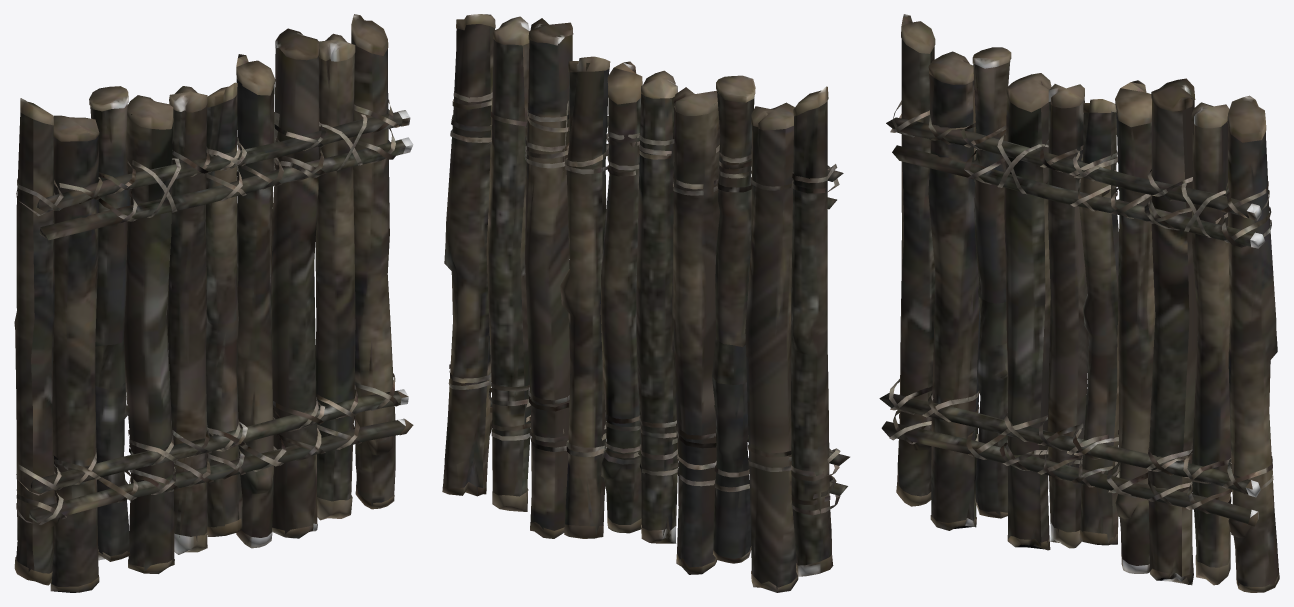
3 views of the same model, side by side, from view 1: azimuth 30°, elevation 25°; view 2: azimuth 150°, elevation 25°; view 3: azimuth 330°, elevation 25° (orthographic).
Parts seen in each view (by area): view 1: mesh_0; view 2: mesh_0; view 3: mesh_0.
Boxes of the visible parts, <box> form: mesh_0: <box>14,14,413,592</box>; mesh_0: <box>442,14,849,592</box>; mesh_0: <box>879,14,1279,592</box>.
Bounding box in the file's own units: 78.17 × 98.82 × 12.49.
1 material, 1 textured.
